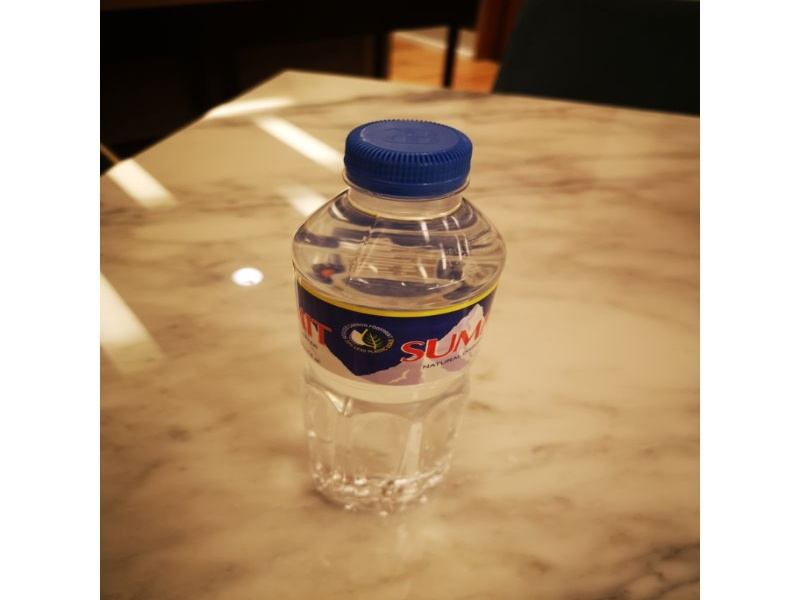PET #1: (283, 112, 511, 531)
